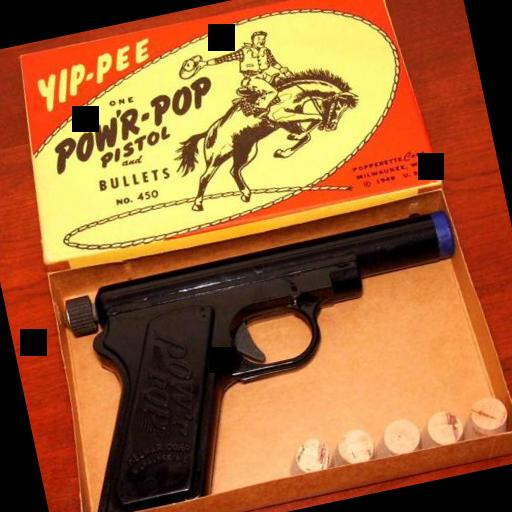Handgun: (52, 198, 494, 512)
